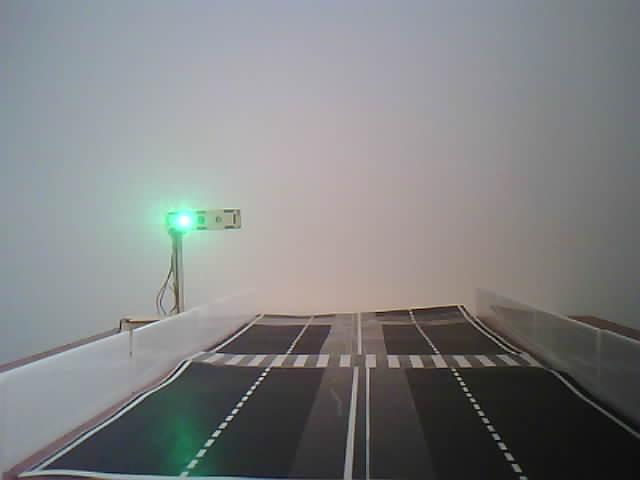crosswalk: (167, 337, 549, 369)
green: (154, 203, 260, 307)
